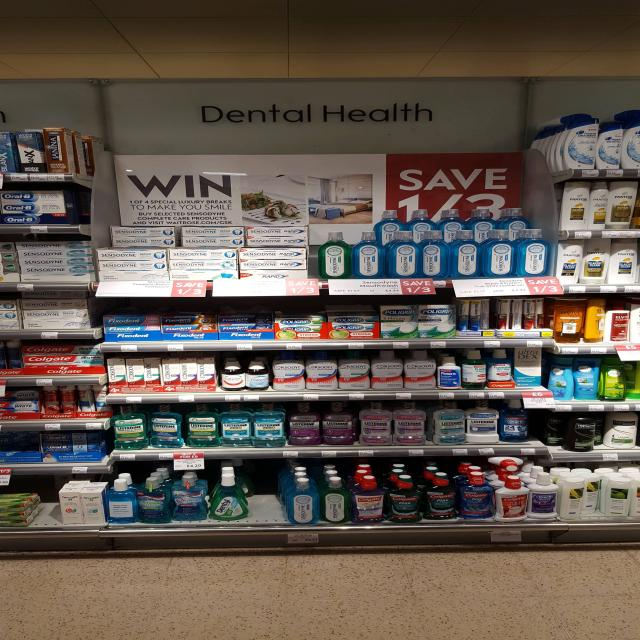empty: (251, 463, 279, 520)
